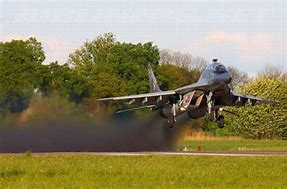smoke: (1, 116, 186, 152)
